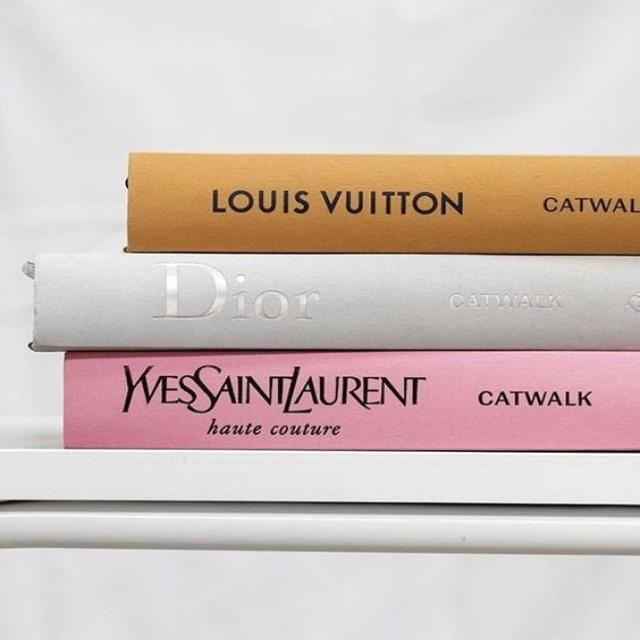book: (31, 254, 639, 351), (64, 352, 639, 450), (126, 154, 639, 254)
